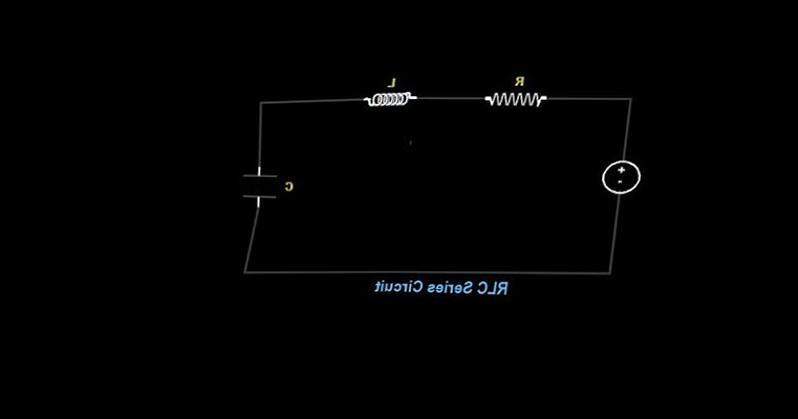Battery: (589, 140, 655, 206)
